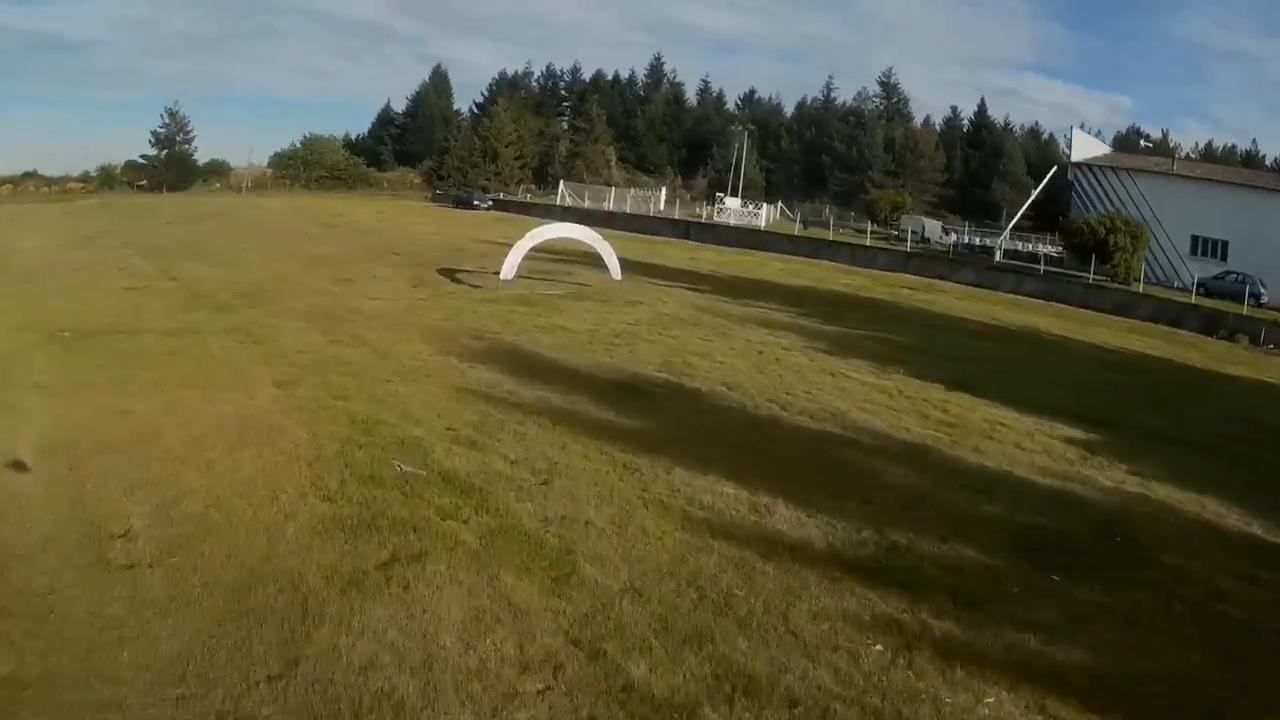gate: (499, 220, 624, 281)
